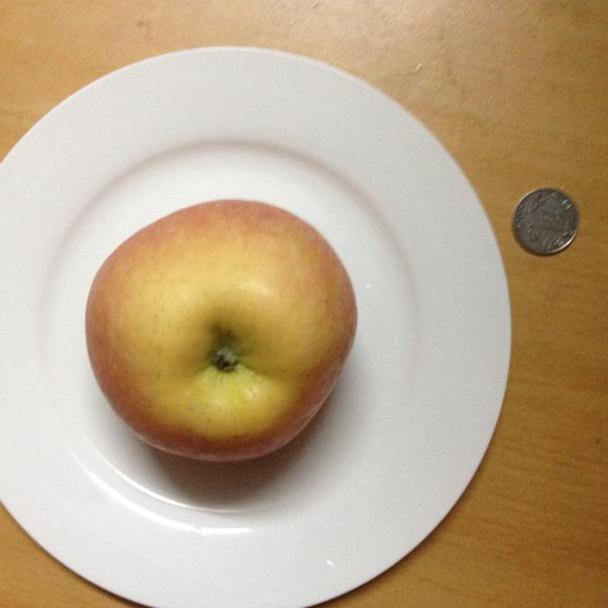apple: (86, 198, 356, 462)
